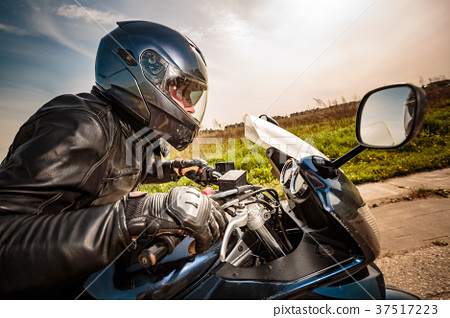helmet: (93, 18, 213, 133)
